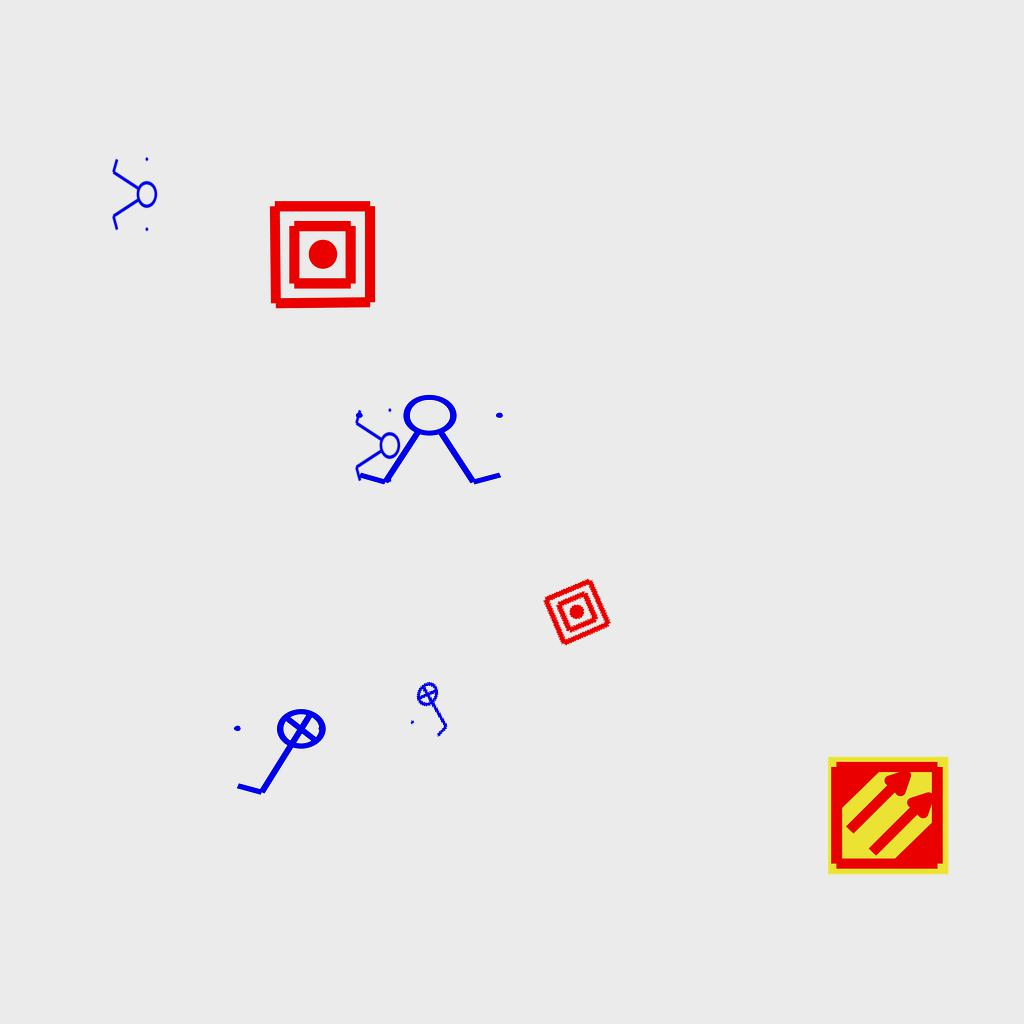ASR_Ansaugrauchmelder: (826, 753, 951, 878)
Ausschalter_beleuchtet: (228, 707, 340, 803), (400, 672, 470, 744)
NAM-Nichtautomatischer_Melder: (266, 198, 379, 311), (540, 575, 614, 649)
Serienschalter: (347, 393, 515, 489), (110, 153, 158, 237), (353, 404, 401, 488)
